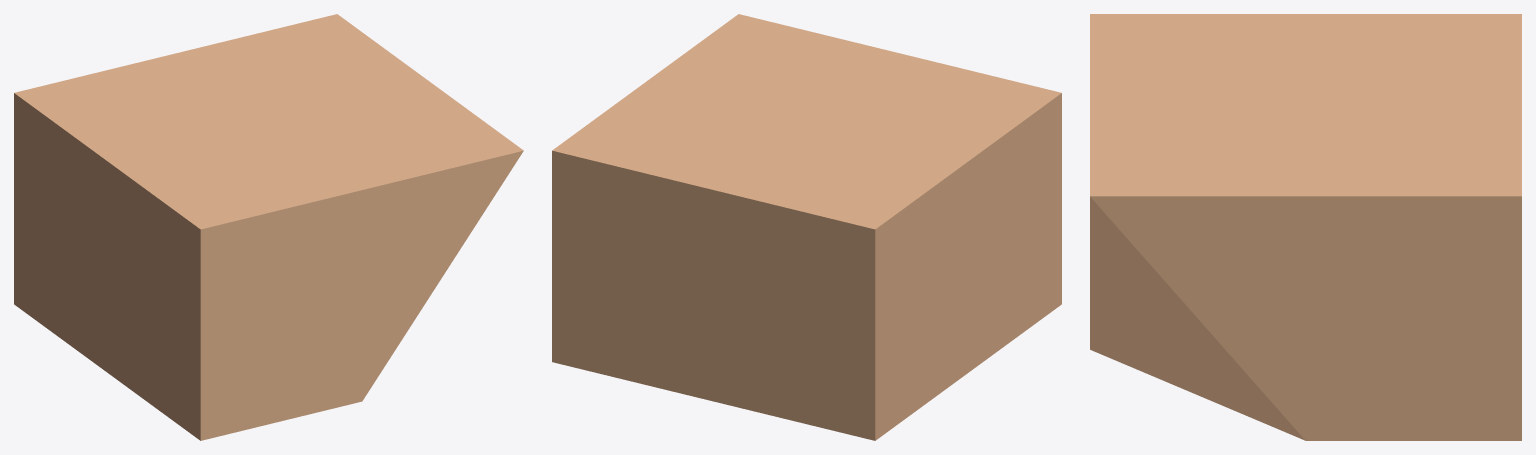
The model's file is building-corner-bottom.obj.
3 views of the same model, side by side, from view 1: azimuth 30°, elevation 25°; view 2: azimuth 150°, elevation 25°; view 3: azimuth 270°, elevation 25° (orthographic). The views are drawn at different scales.
Size of the model in its own units: 1 by 0.625 by 1.
